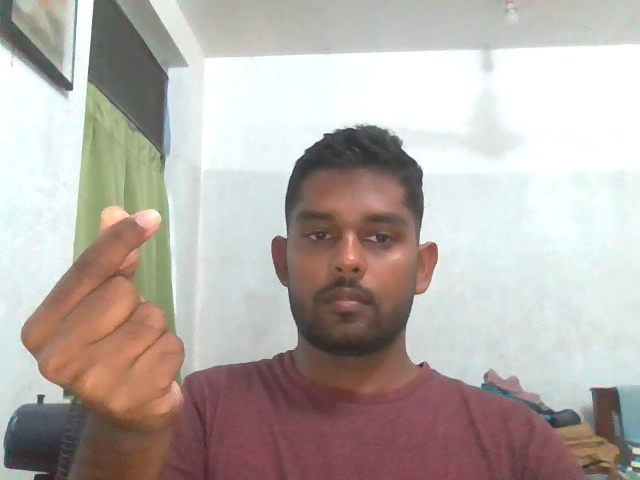iloveyou: (18, 198, 200, 424)
